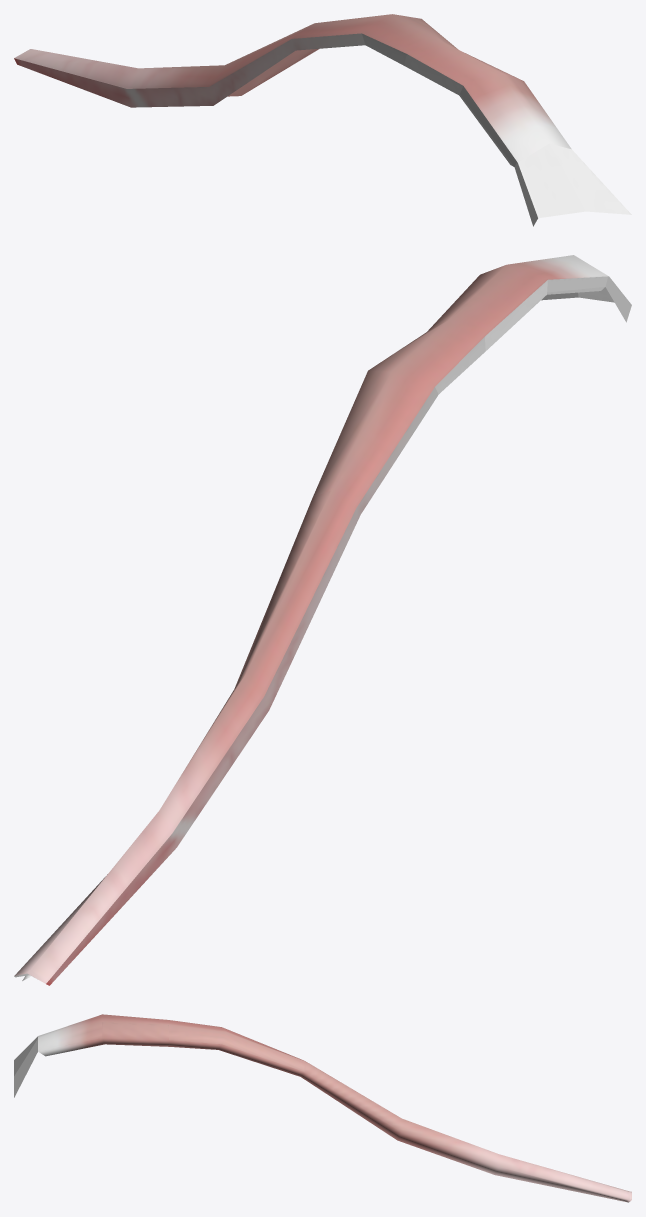
File: Músculo Recto Superior.FBX
3 views of the same model, one above another, from view 1: azimuth 30°, elevation 25°; view 2: azimuth 150°, elevation 25°; view 3: azimuth 270°, elevation 25° (orthographic). The views are drawn at different scales.
Parts seen in each view (by area): view 1: Sclera Left; view 2: Sclera Left; view 3: Sclera Left.
Part boxes in pixels (x1=…): Sclera Left: x1=14, y1=14, x2=631, y2=226; Sclera Left: x1=14, y1=255, x2=631, y2=985; Sclera Left: x1=14, y1=1014, x2=631, y2=1202.
Bounding box in the file's own units: 0.1278 × 0.3963 × 1.22.
1 material, 1 textured.
